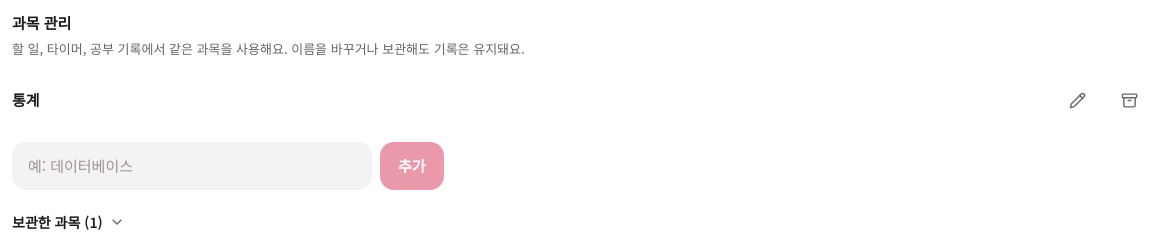
Test: SubjectManager 과목 보관 › does not restore by name an archived subject that was renamed elsewhere
Type " toeic " into the field named "새 과목 이름".
click(192, 166); type(" toeic ")  # box [12, 142, 372, 190]
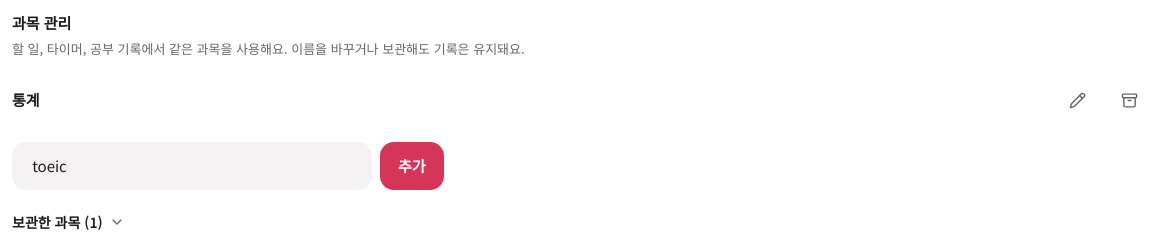
Click the button "추가".
click(412, 166)  # box [380, 142, 444, 190]
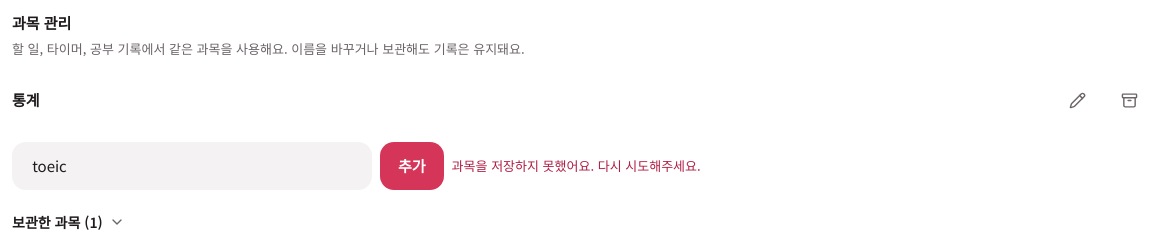
Expected: the heading "보관한 과목 (1)" is shown, [12, 212, 125, 232]
Now the message reads "과목을 저장하지 못했어요. 다시 시도해주세요.", box [452, 156, 701, 175]
